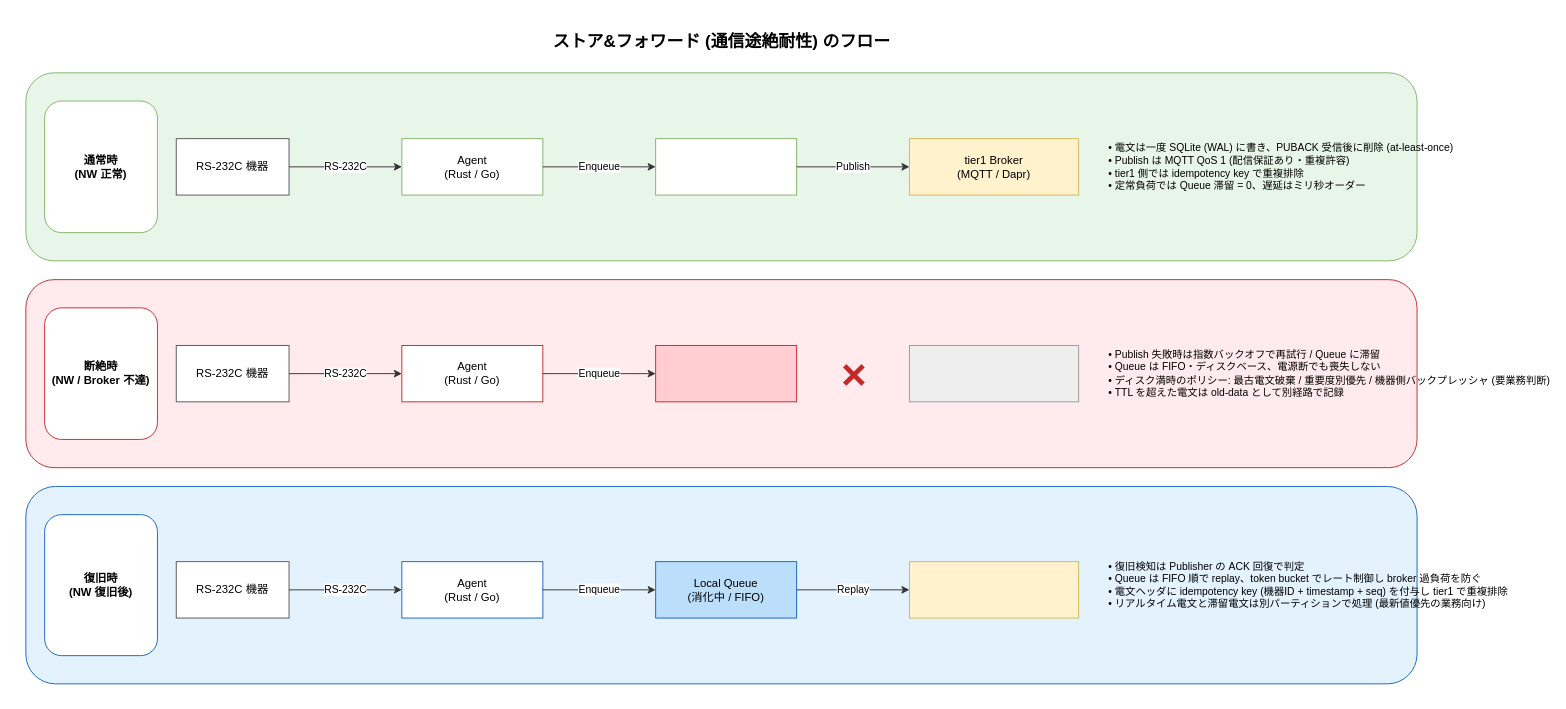
This 1566x709 diagram has some shape labels left out. The box of each missing label's shape, as (x1, y1, x2, y2) in pixels:
Local Queue (滞留中 / WAL 拡大): (655, 345, 797, 402)
Local Queue (空 / 即消化): (655, 138, 797, 195)
tier1 Broker (到達不可): (909, 345, 1079, 402)
tier1 Broker (重複排除): (909, 561, 1079, 618)
